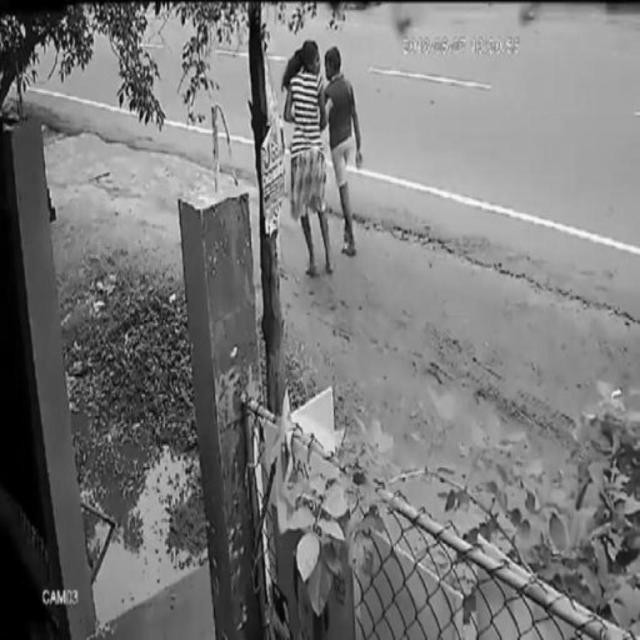person: (283, 42, 327, 275), (326, 41, 363, 263)
